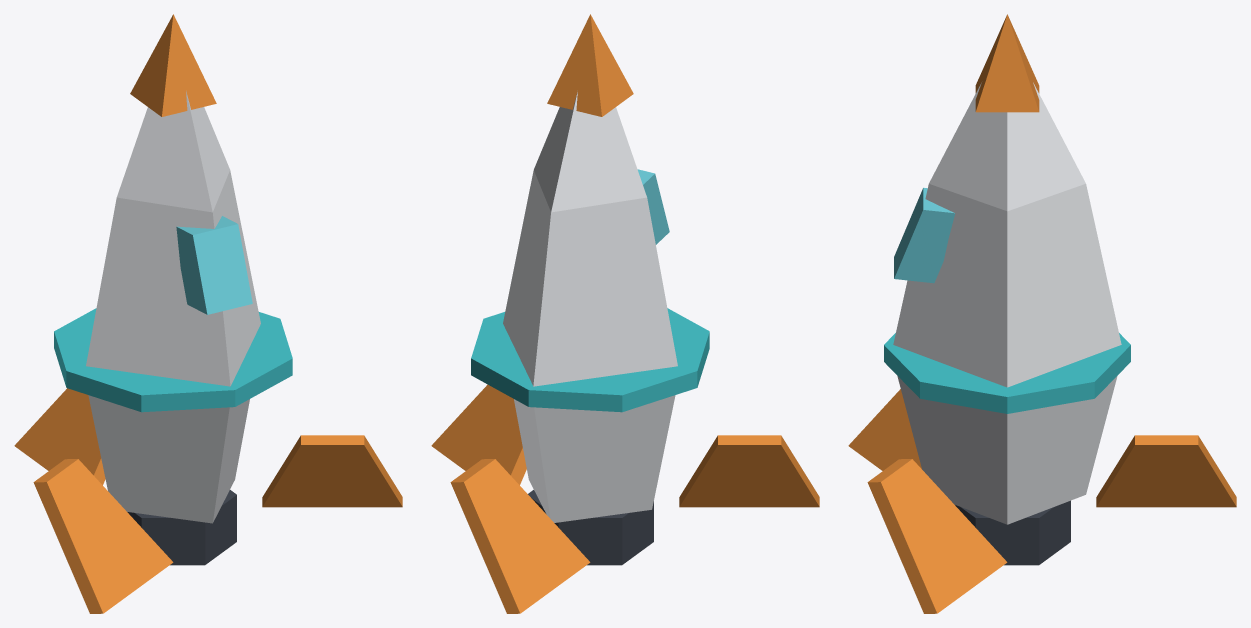
Rendered from ShipInterceptor.fbx.
3 views of the same model, side by side, from view 1: azimuth 30°, elevation 25°; view 2: azimuth 150°, elevation 25°; view 3: azimuth 270°, elevation 25° (orthographic).
Parts seen in each view (by area): view 1: ShipInterceptor; view 2: ShipInterceptor; view 3: ShipInterceptor.
Part boxes in pixels (x1=…): ShipInterceptor: x1=14, y1=14, x2=402, y2=613; ShipInterceptor: x1=431, y1=14, x2=819, y2=613; ShipInterceptor: x1=848, y1=14, x2=1236, y2=613.
Bounding box in the file's own units: 2.99 × 4.21 × 2.8.
